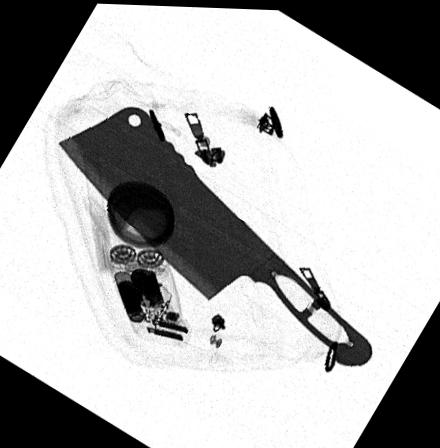Knife: (56, 104, 371, 363)
